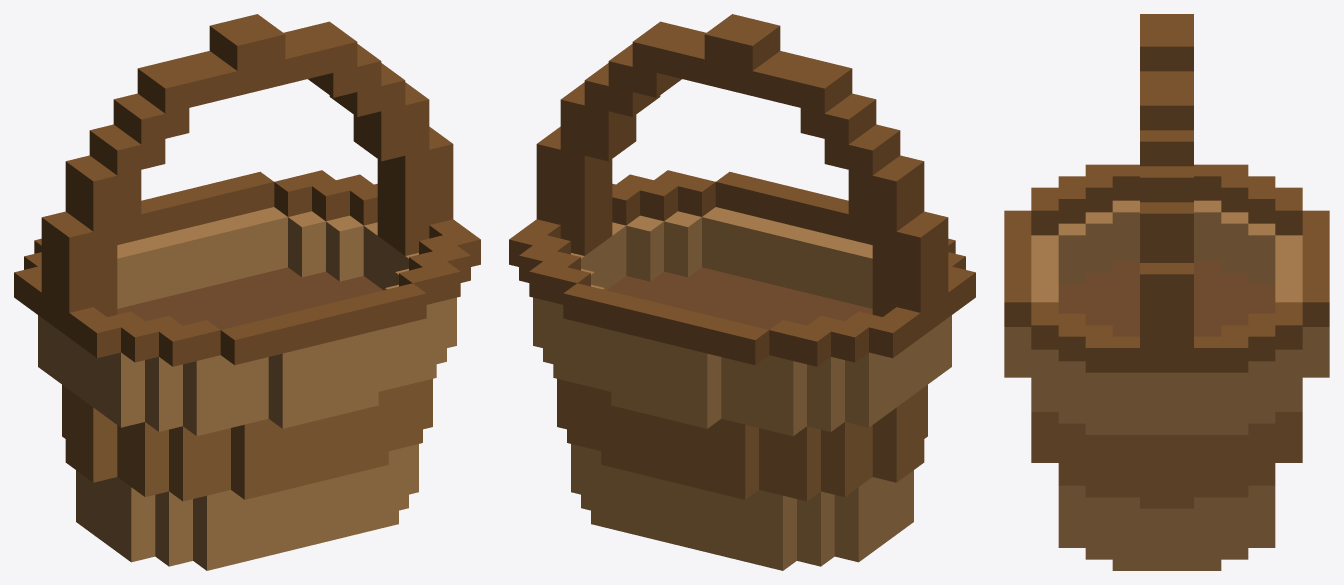
The model's file is basket.glb.
3 views of the same model, side by side, from view 1: azimuth 30°, elevation 25°; view 2: azimuth 150°, elevation 25°; view 3: azimuth 270°, elevation 25° (orthographic). The views are drawn at different scales.
Visible parts, largest first — view 1: prop; view 2: prop; view 3: prop.
Part boxes in pixels (box(x1,y1,x2,y2)): prop: box(14, 14, 480, 570); prop: box(509, 14, 975, 570); prop: box(1004, 14, 1329, 570).
Bounding box in the file's own units: 13.47 × 16 × 10.11.
